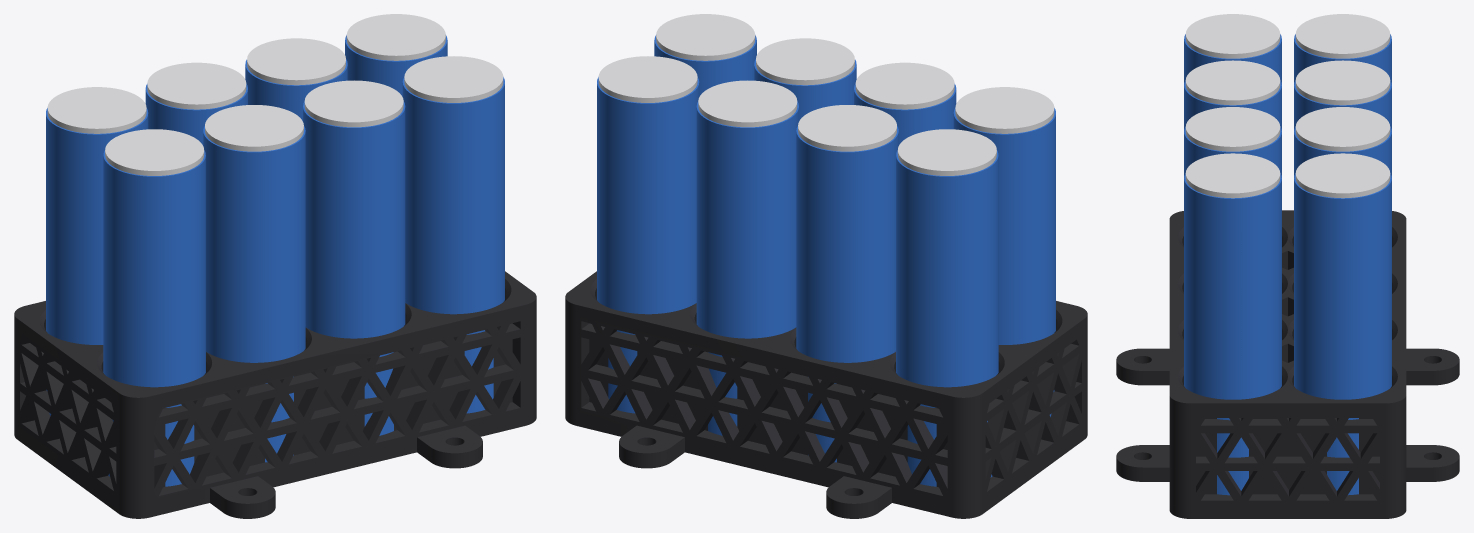
File: soporte-18650-lattice.glb
3 renders of one model, left to right at view 1: azimuth 30°, elevation 25°; view 2: azimuth 150°, elevation 25°; view 3: azimuth 270°, elevation 25°, orthographic. The views are drawn at different scales.
Parts seen in each view (by area): view 1: celdas, soporte, tapas; view 2: celdas, soporte, tapas; view 3: celdas, soporte, tapas.
Boxes of the visible parts, x1,y1,x2,y2 form: celdas: (46, 35, 504, 486); soporte: (14, 271, 536, 518); tapas: (47, 14, 503, 175); celdas: (597, 35, 1055, 486); soporte: (565, 271, 1087, 518); tapas: (598, 14, 1054, 175); celdas: (1184, 34, 1391, 495); soporte: (1116, 210, 1459, 518); tapas: (1185, 14, 1390, 198).
Bounding box in the file's own units: 0.086 × 0.0662 × 0.0646.
